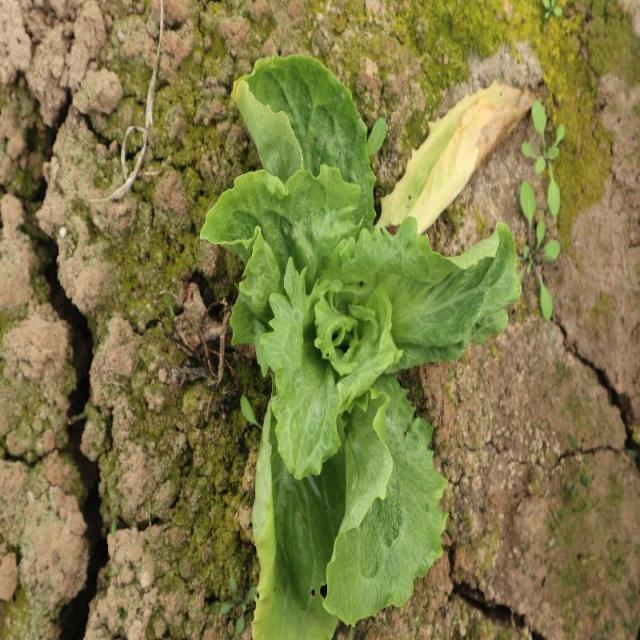crop: (199, 55, 522, 640)
